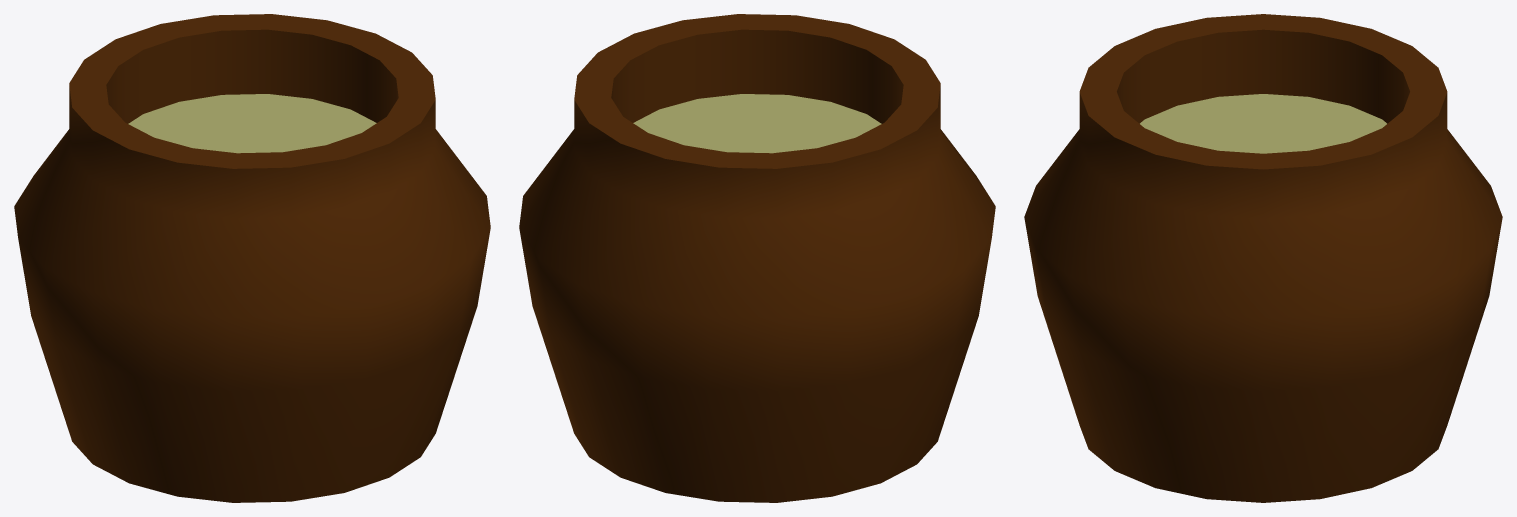
Rendered from Bowl.fbx.
3 views of the same model, side by side, from view 1: azimuth 30°, elevation 25°; view 2: azimuth 150°, elevation 25°; view 3: azimuth 270°, elevation 25° (orthographic).
Parts seen in each view (by area): view 1: Bowl; view 2: Bowl; view 3: Bowl.
Part boxes in pixels (box(x1,y1,x2,y2)): Bowl: box(14, 14, 490, 502); Bowl: box(519, 14, 995, 502); Bowl: box(1024, 14, 1502, 502).
Bounding box in the file's own units: 0.1365 × 0.105 × 0.1365.
